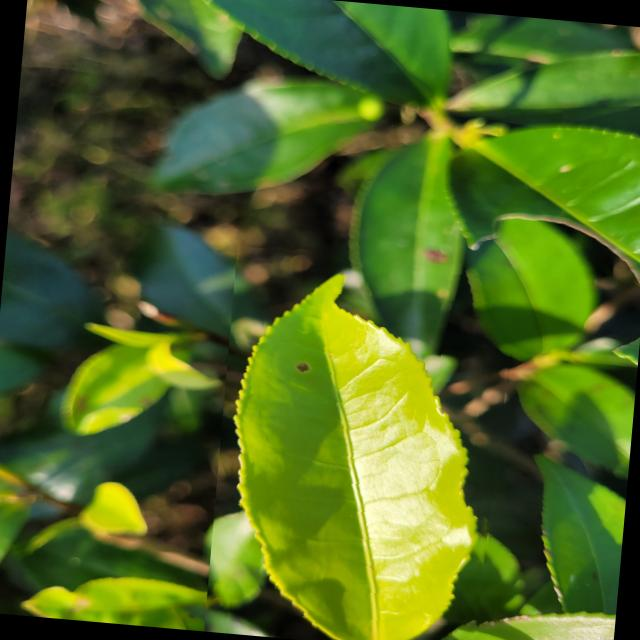Category B(2-4 days): (203, 239, 520, 640)
